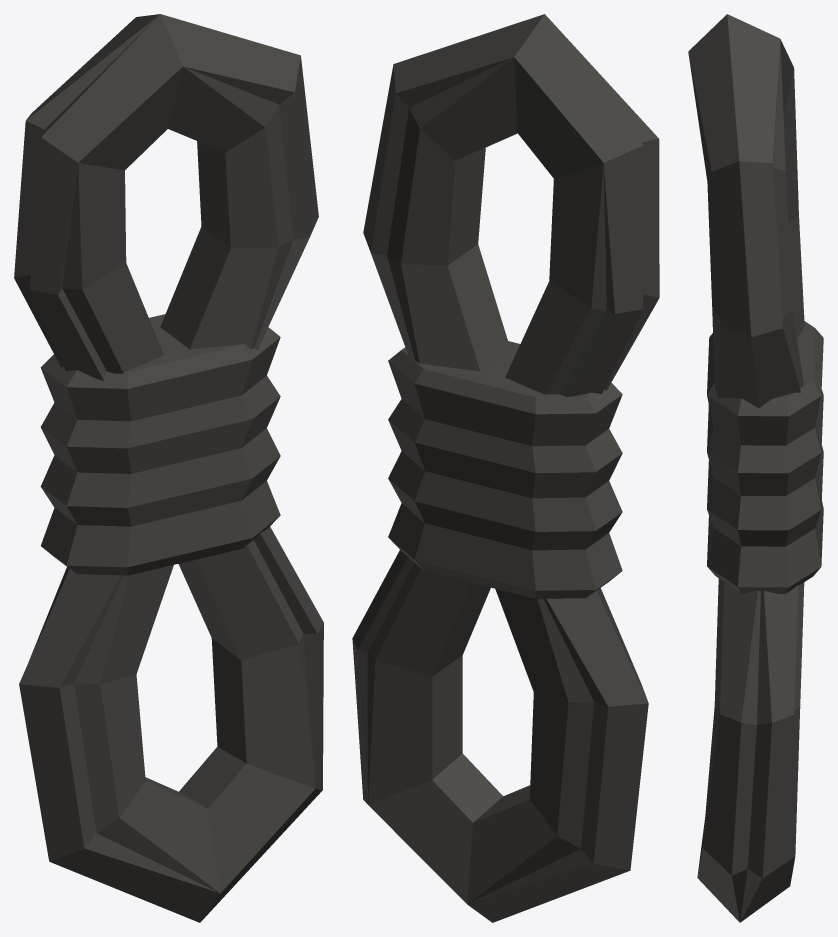
File: Rope_01_SM.FBX
3 renders of one model, left to right at view 1: azimuth 30°, elevation 25°; view 2: azimuth 150°, elevation 25°; view 3: azimuth 270°, elevation 25°, orthographic. The views are drawn at different scales.
Parts seen in each view (by area): view 1: Rope_01_SM; view 2: Rope_01_SM; view 3: Rope_01_SM.
Part boxes in pixels (box(x1,y1,x2,y2)): Rope_01_SM: box(14, 14, 323, 922); Rope_01_SM: box(352, 14, 659, 922); Rope_01_SM: box(688, 14, 823, 922).
Size of what is drawn, in the model's own units: 6.94 by 2.88 by 20.84.
